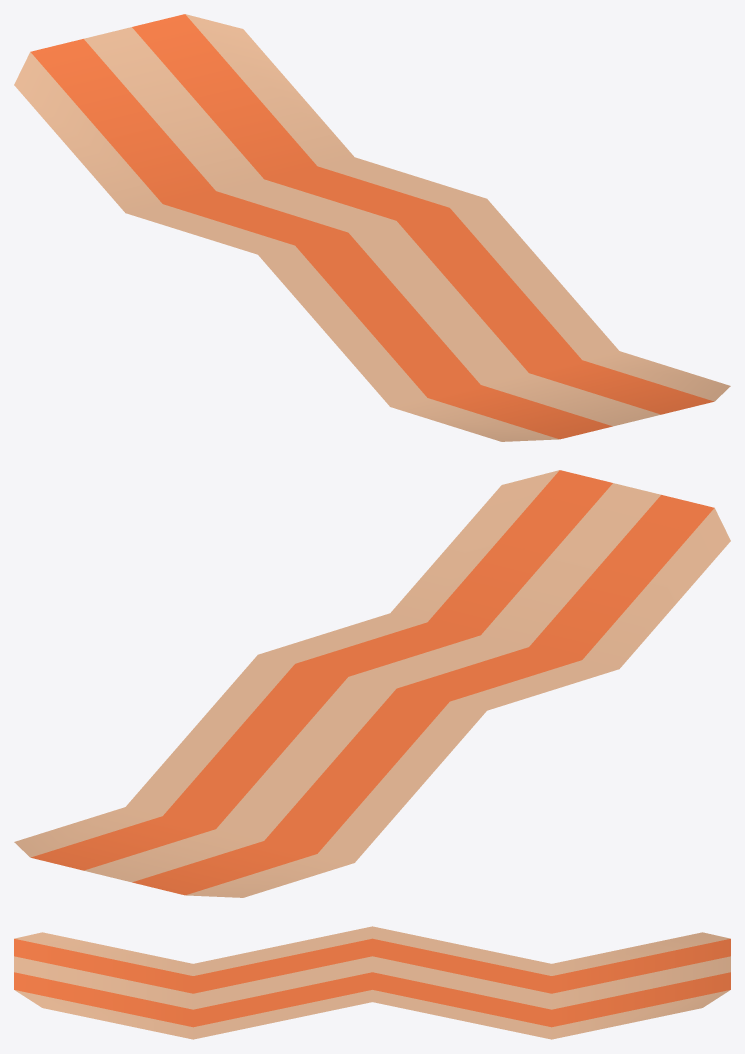
File: bacon_raw.glb
The picture shows the model from 3 angles, top to bottom: view 1: azimuth 30°, elevation 25°; view 2: azimuth 150°, elevation 25°; view 3: azimuth 270°, elevation 25°; orthographic projection. The views are drawn at different scales.
Visible parts, largest first — view 1: bacon-raw; view 2: bacon-raw; view 3: bacon-raw.
Part boxes in pixels (box(x1,y1,x2,y2)): bacon-raw: box(14, 14, 730, 441); bacon-raw: box(14, 470, 730, 897); bacon-raw: box(14, 926, 730, 1039).
Size of the model in its own units: 0.13 by 0.03 by 0.52.
Materials: 1 (1 with a texture image).
